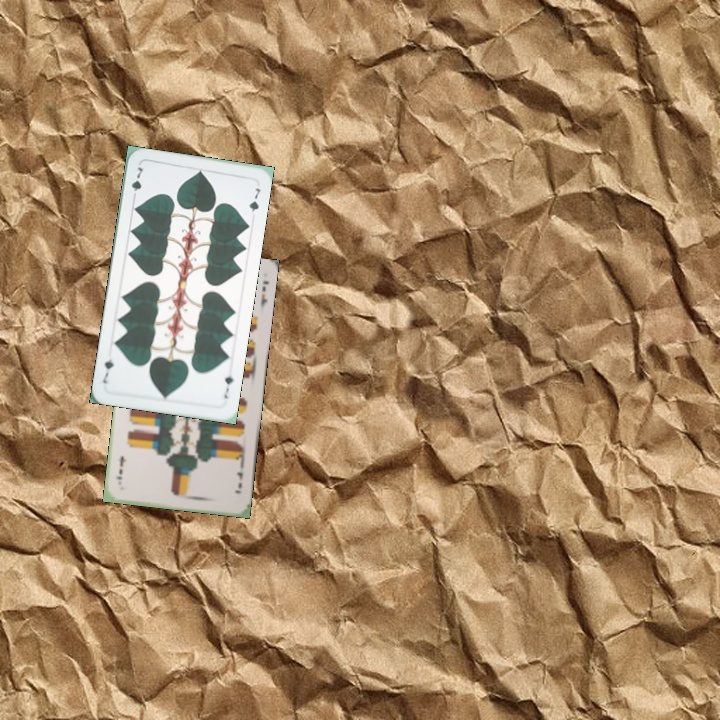E7: (231, 467, 245, 496)
G7: (127, 163, 145, 202), (220, 371, 236, 401)
